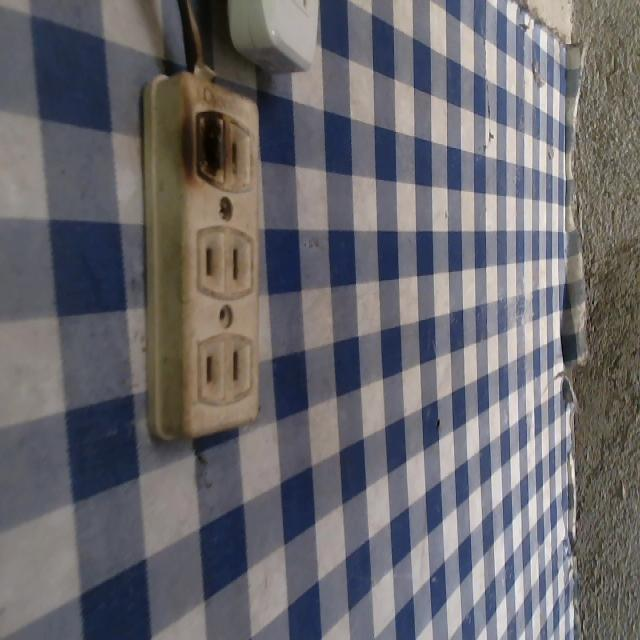-: (190, 99, 228, 188)
